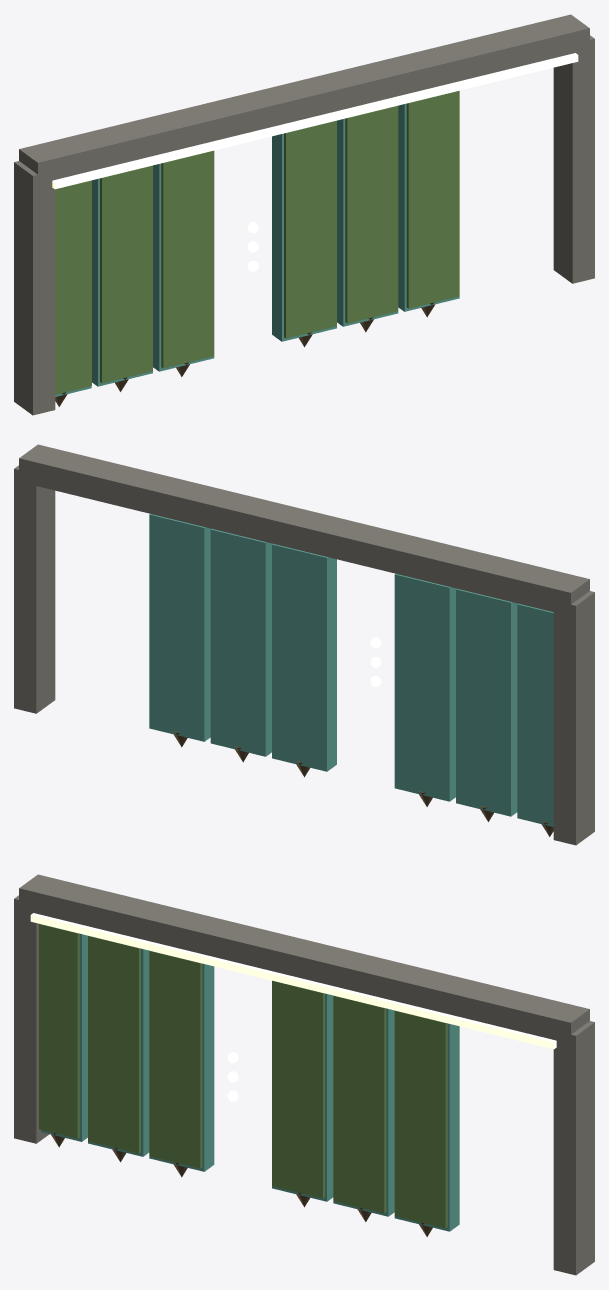
The model's file is 04_canopy_drift.glb.
The picture shows the model from 3 angles, top to bottom: view 1: azimuth 30°, elevation 25°; view 2: azimuth 150°, elevation 25°; view 3: azimuth 330°, elevation 25°; orthographic projection.
Visible parts, largest first — view 1: canopy_drift_rail, canopy_drape_5_nocol, canopy_drape_2_nocol, canopy_drape_6_nocol, canopy_drape_1_nocol, canopy_drape_4_nocol, canopy_drift_post_-1, canopy_drift_post_1, canopy_drape_0_nocol, canopy_drift_rail_signal, canopy_panel_4, canopy_panel_6 (+3 smaller); view 2: canopy_drift_rail, canopy_panel_4, canopy_panel_6, canopy_panel_2, canopy_panel_5, canopy_panel_1, canopy_drift_post_-1, canopy_drift_post_1, canopy_panel_0; view 3: canopy_drift_rail, canopy_drape_5_nocol, canopy_drape_6_nocol, canopy_drape_2_nocol, canopy_drape_1_nocol, canopy_drape_4_nocol, canopy_drift_post_1, canopy_drape_0_nocol, canopy_drift_post_-1, canopy_drift_rail_signal, canopy_panel_2, canopy_panel_6 (+4 smaller).
Part boxes in pixels (bbox=[...]): canopy_drift_rail: bbox=[19, 14, 589, 186]; canopy_drape_5_nocol: bbox=[345, 105, 398, 323]; canopy_drape_2_nocol: bbox=[161, 150, 214, 368]; canopy_drape_6_nocol: bbox=[406, 90, 459, 308]; canopy_drape_1_nocol: bbox=[100, 165, 152, 383]; canopy_drape_4_nocol: bbox=[284, 120, 336, 338]; canopy_drift_post_-1: bbox=[14, 161, 55, 415]; canopy_drift_post_1: bbox=[553, 35, 594, 283]; canopy_drape_0_nocol: bbox=[55, 180, 91, 394]; canopy_drift_rail_signal: bbox=[52, 53, 578, 189]; canopy_panel_4: bbox=[272, 133, 336, 341]; canopy_panel_6: bbox=[398, 103, 459, 311]; canopy_drift_rail: bbox=[19, 444, 589, 616]; canopy_panel_4: bbox=[272, 544, 336, 771]; canopy_panel_6: bbox=[149, 514, 211, 741]; canopy_panel_2: bbox=[394, 573, 456, 801]; canopy_panel_5: bbox=[210, 529, 272, 756]; canopy_panel_1: bbox=[456, 588, 517, 816]; canopy_drift_post_-1: bbox=[553, 591, 594, 845]; canopy_drift_post_1: bbox=[14, 465, 55, 713]; canopy_panel_0: bbox=[517, 603, 553, 826]; canopy_drift_rail: bbox=[19, 874, 589, 1046]; canopy_drape_5_nocol: bbox=[333, 995, 386, 1213]; canopy_drape_6_nocol: bbox=[394, 1010, 447, 1228]; canopy_drape_2_nocol: bbox=[149, 950, 202, 1168]; canopy_drape_1_nocol: bbox=[88, 935, 140, 1153]; canopy_drape_4_nocol: bbox=[272, 980, 324, 1198]; canopy_drift_post_1: bbox=[553, 1021, 594, 1275]; canopy_drape_0_nocol: bbox=[39, 923, 79, 1138]; canopy_drift_post_-1: bbox=[14, 895, 49, 1143]; canopy_drift_rail_signal: bbox=[30, 913, 556, 1049]; canopy_panel_2: bbox=[149, 963, 214, 1171]; canopy_panel_6: bbox=[394, 1023, 459, 1231].
Size of the model in its own units: 27.5 by 12.1 by 1.88.
